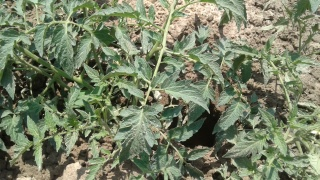tomato plant: (126, 42, 305, 179), (3, 3, 114, 147)
